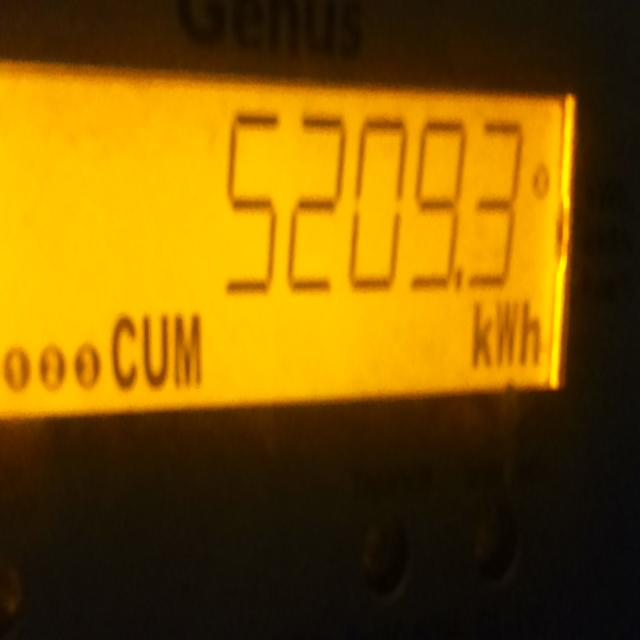.: (453, 264, 466, 297)
0: (345, 114, 405, 296)
2: (286, 107, 346, 302)
3: (469, 113, 526, 289)
5: (219, 99, 282, 300)
9: (409, 111, 469, 302)
